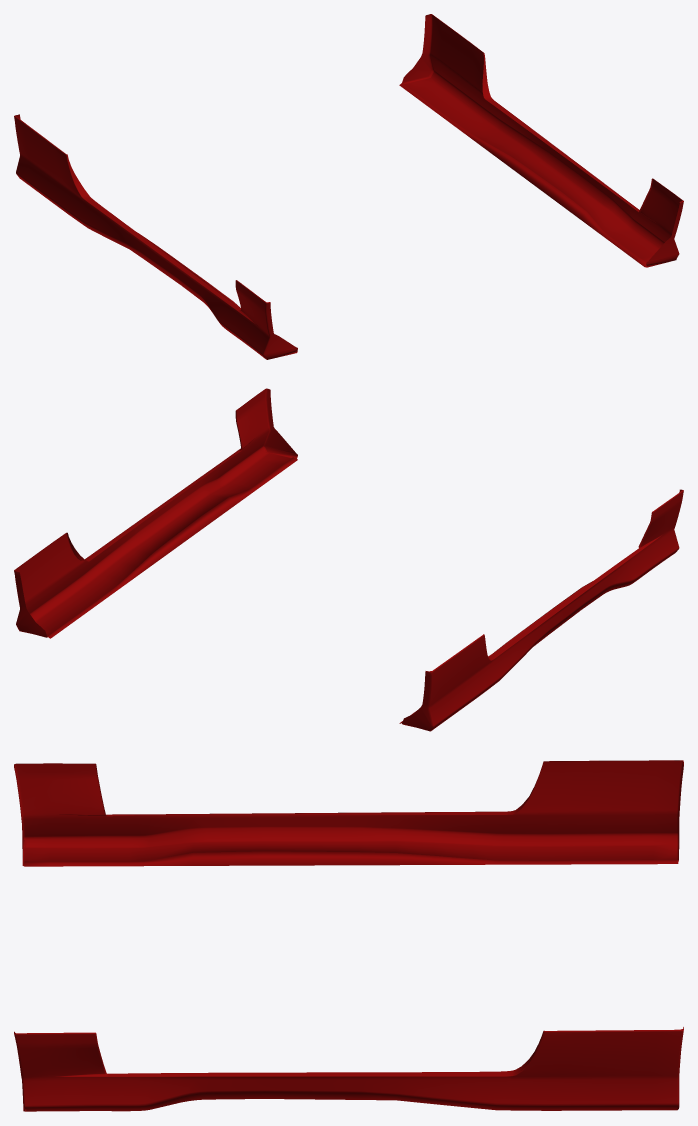
The model's file is sideskirts_oemkouki.glb.
3 renders of one model, top to bottom at view 1: azimuth 30°, elevation 25°; view 2: azimuth 150°, elevation 25°; view 3: azimuth 270°, elevation 25°, orthographic. The views are drawn at different scales.
Visible parts, largest first — view 1: Sideskirts; view 2: Sideskirts; view 3: Sideskirts.
Part boxes in pixels (<box>): Sideskirts: <box>14,14,683,359</box>; Sideskirts: <box>14,388,683,731</box>; Sideskirts: <box>14,760,683,1111</box>.
Size of the model in its own units: 1.7 by 0.2469 by 1.78.
